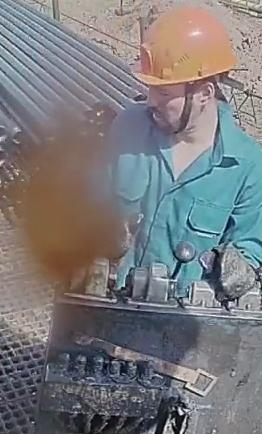gloves: (198, 241, 256, 302)
helmet: (138, 6, 237, 86)
vest: (107, 99, 261, 299)
